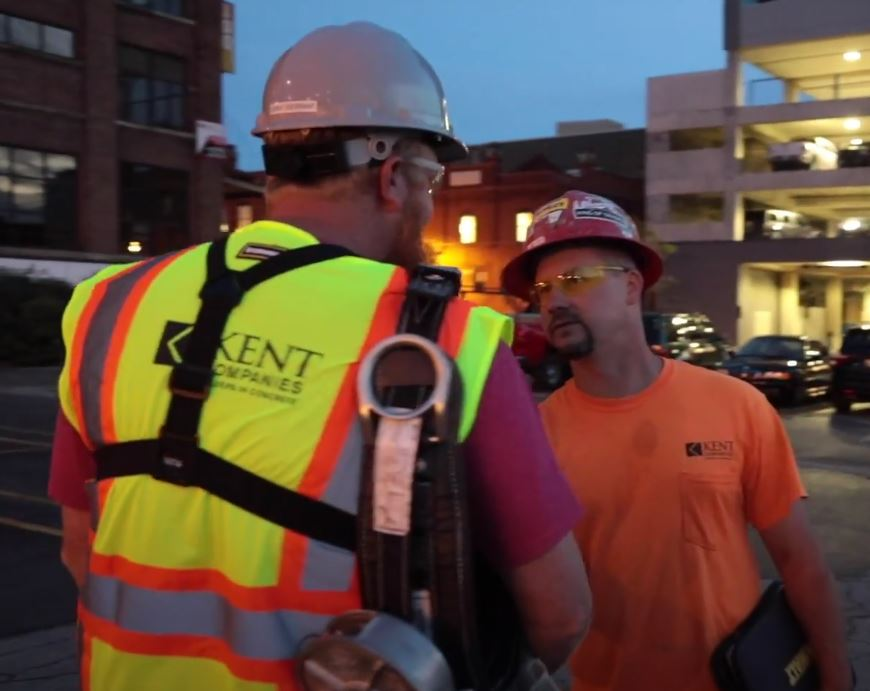Safety Helmet: (227, 9, 479, 311), (488, 176, 674, 384)
